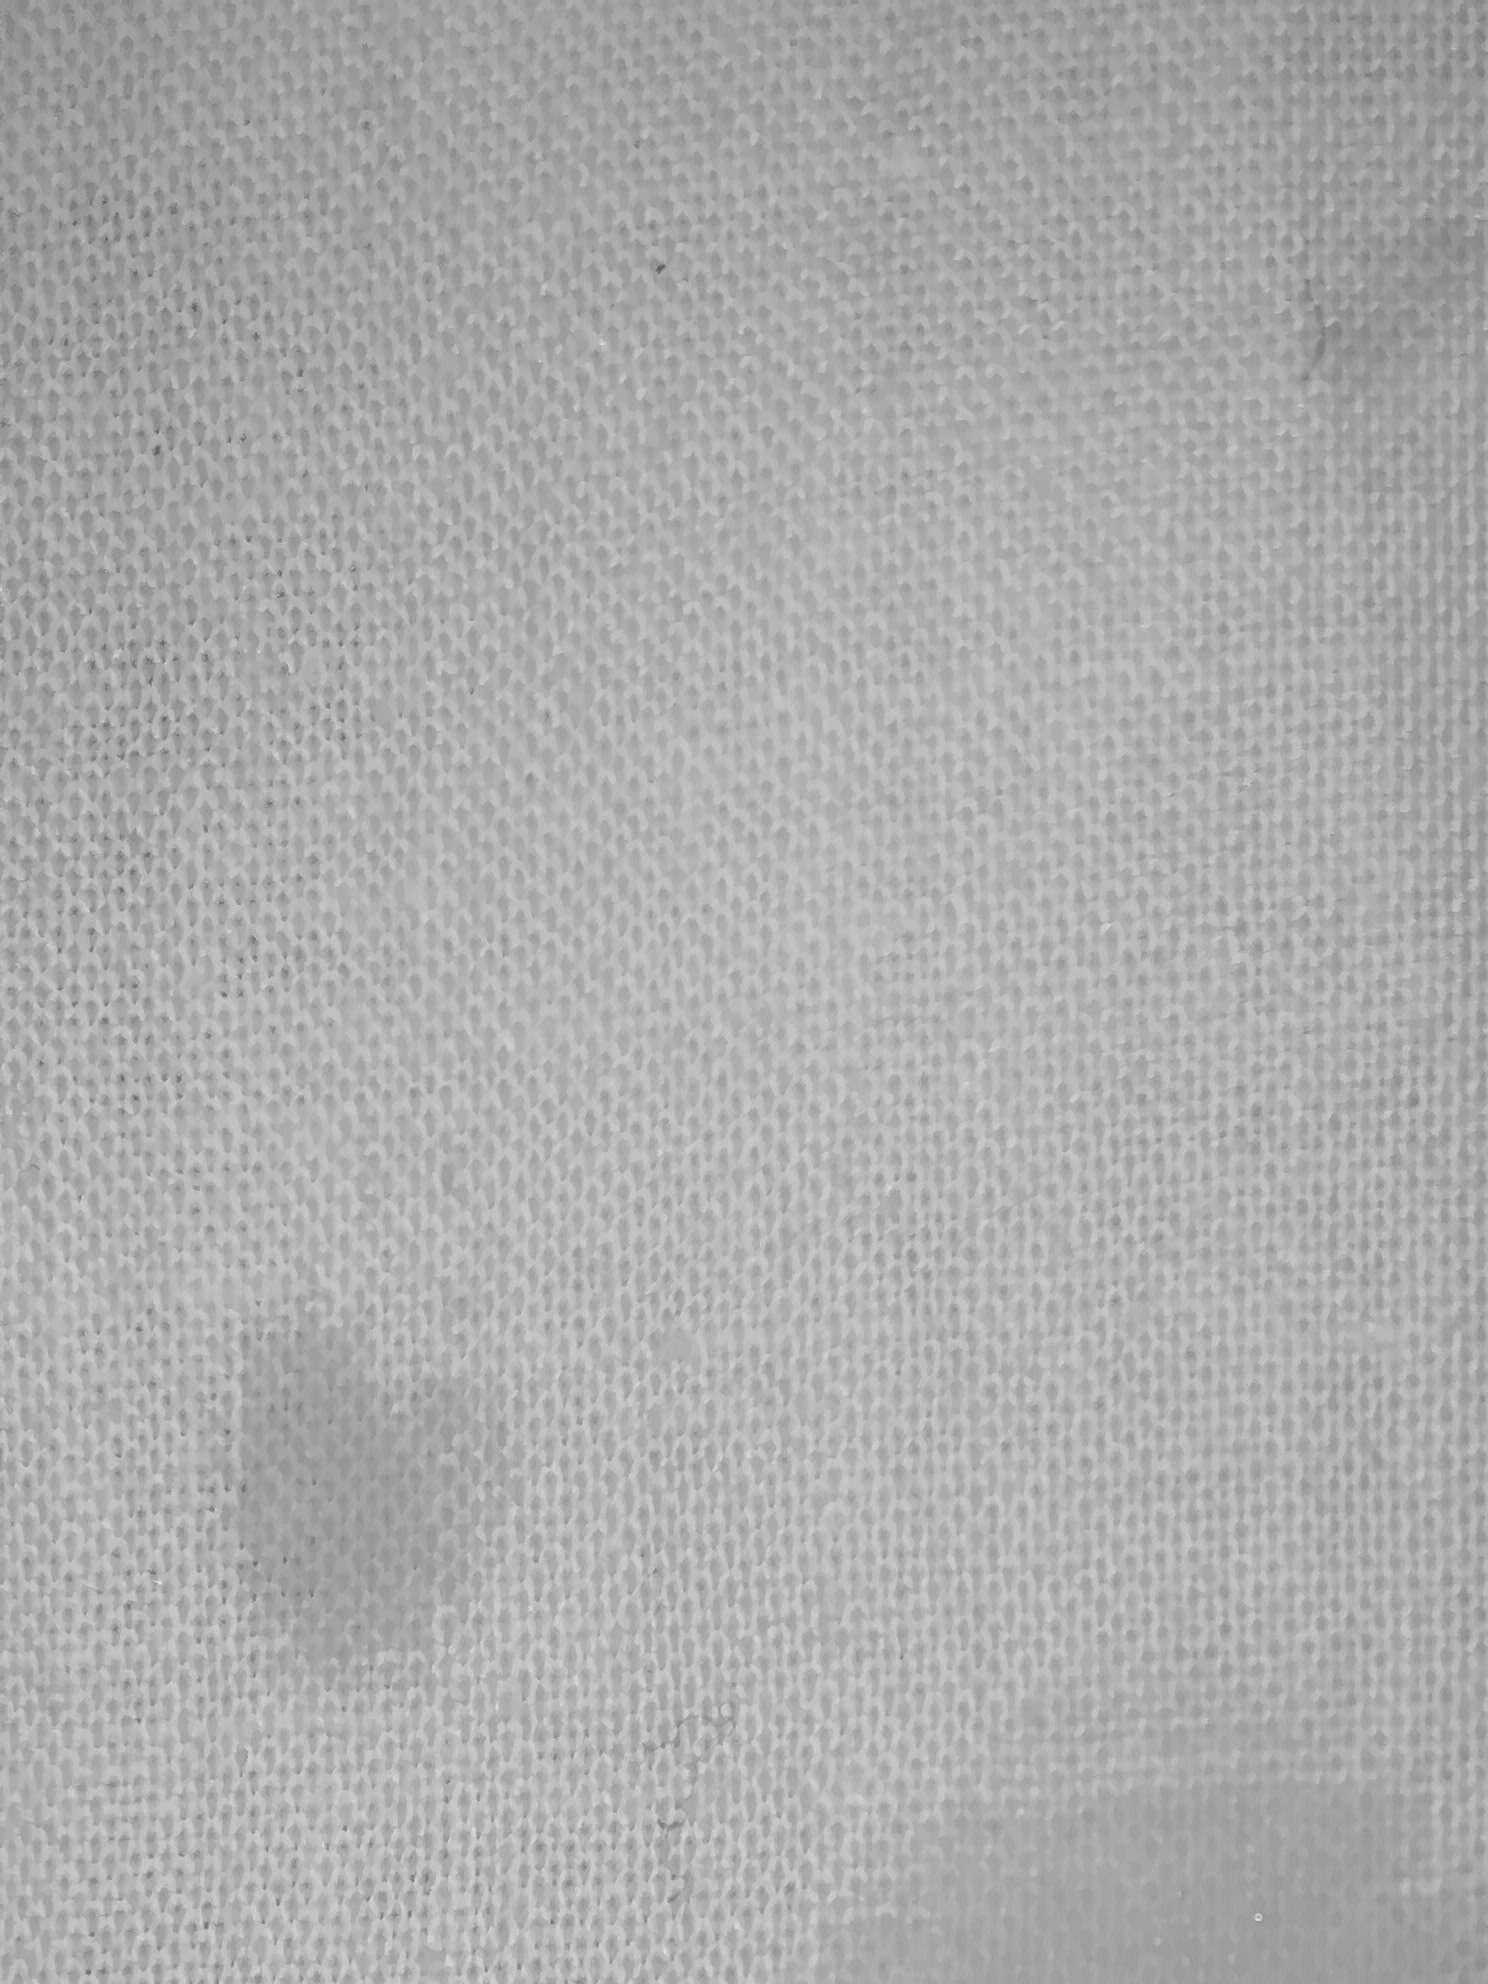Stain: (155, 1186, 563, 1768), (774, 1722, 1488, 1984)
